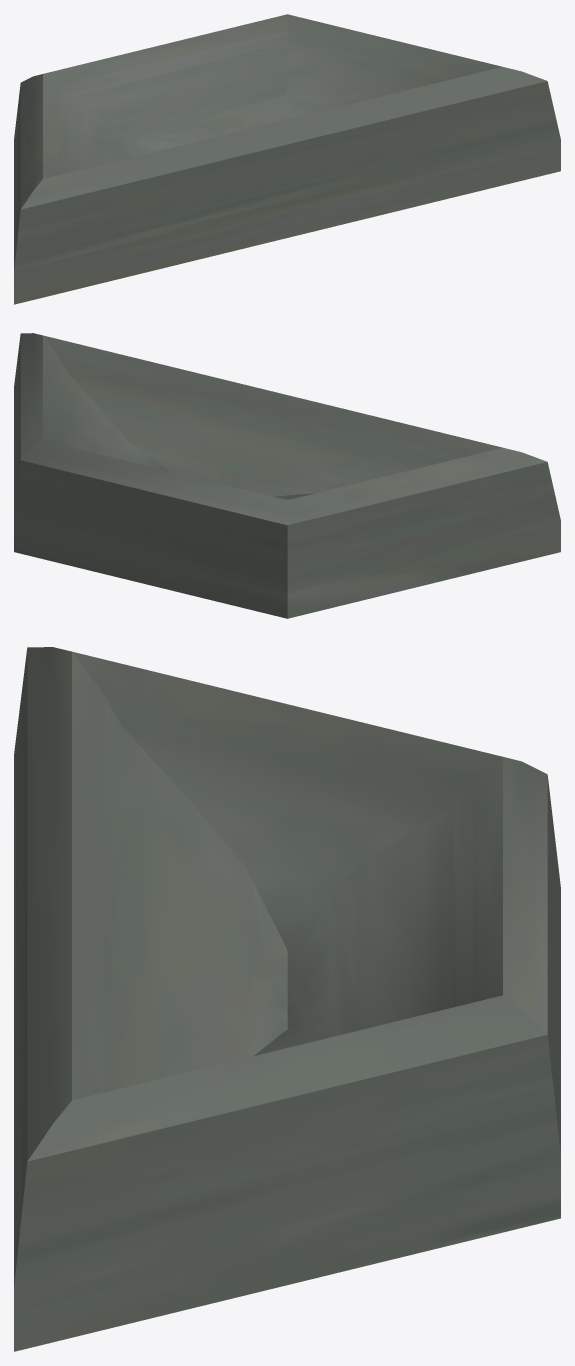
The model's file is Scylla Minion Tub.FBX.
The picture shows the model from 3 angles, top to bottom: view 1: azimuth 30°, elevation 25°; view 2: azimuth 150°, elevation 25°; view 3: azimuth 270°, elevation 25°; orthographic projection. The views are drawn at different scales.
Parts seen in each view (by area): view 1: Cylinder002; view 2: Cylinder002; view 3: Cylinder002.
Boxes of the visible parts, bbox=[...] form: Cylinder002: bbox=[14, 14, 560, 304]; Cylinder002: bbox=[14, 333, 560, 618]; Cylinder002: bbox=[14, 647, 560, 1351].
Size of the model in its own units: 134 by 24.37 by 57.84.
